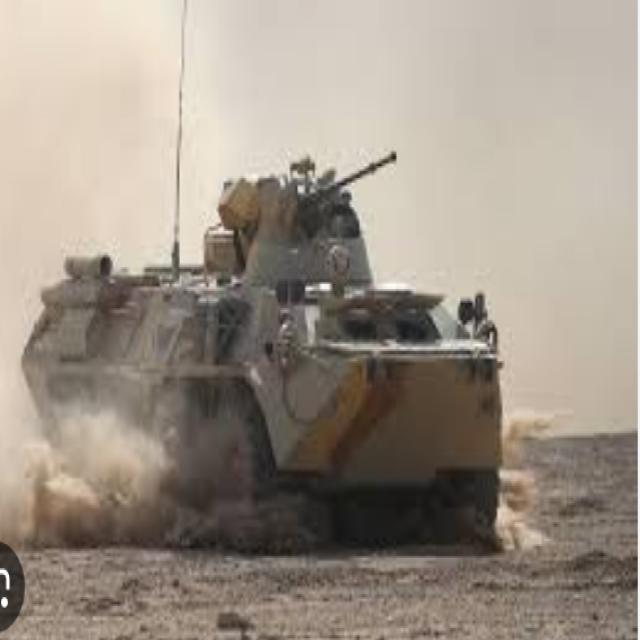MIL_APC: (12, 164, 542, 559)
